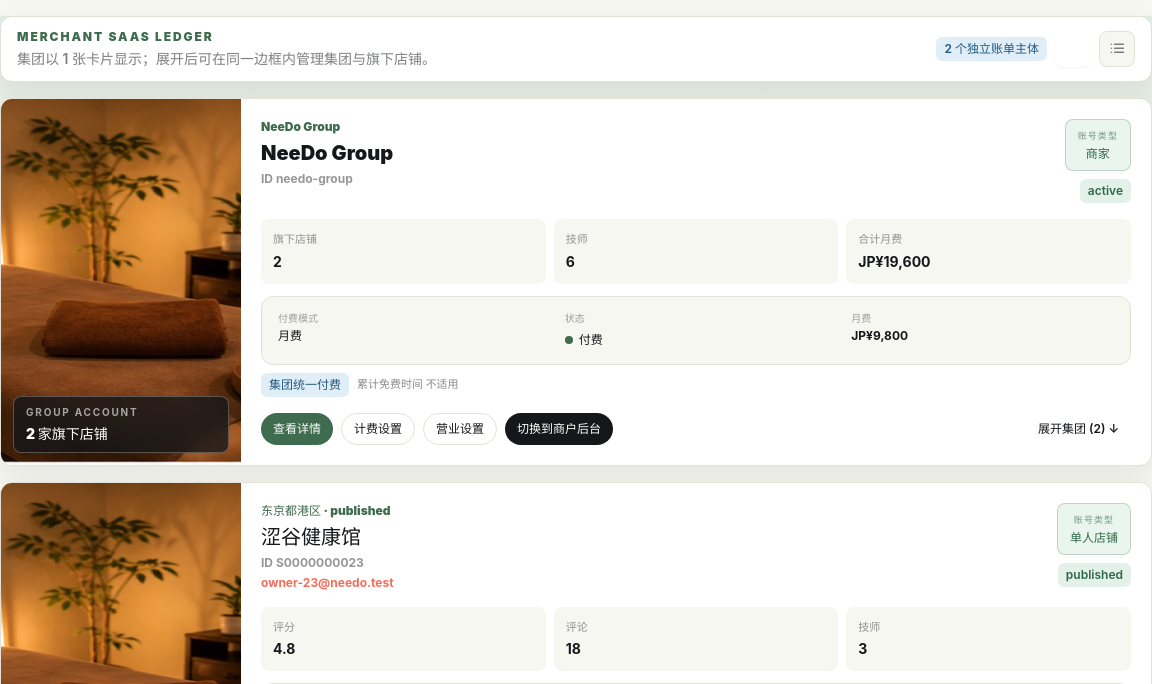
Scenario: keeps information cards as the default and switches to a shop-scoped list
Expected: the element that starts with "Group account" is shown, [0, 98, 1151, 466]
What coordinates should you click on to do the following:
click the button named "列表显示"
I would click on:
 (1117, 49)
Its box is [1099, 31, 1135, 67].
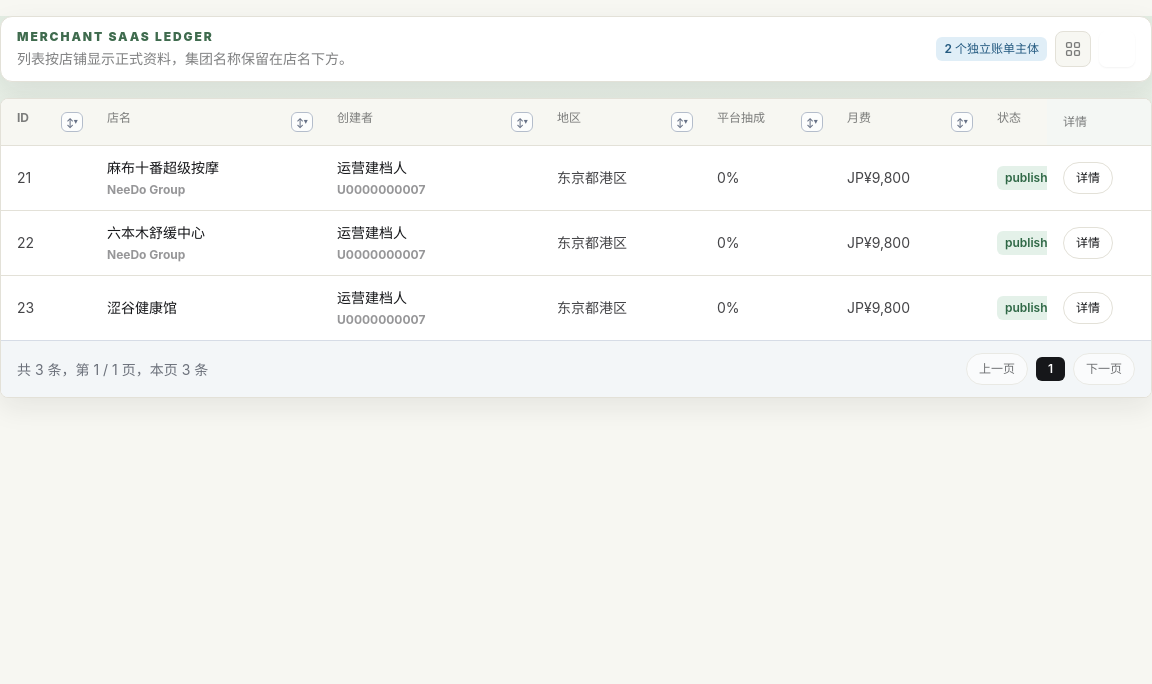
Expected: the text "店名" is shown, [17, 49, 353, 69]
Expected: the text "创建者" is shown, [337, 110, 373, 125]
Expected: the text "运营建档人" is shown, [337, 159, 407, 176]
